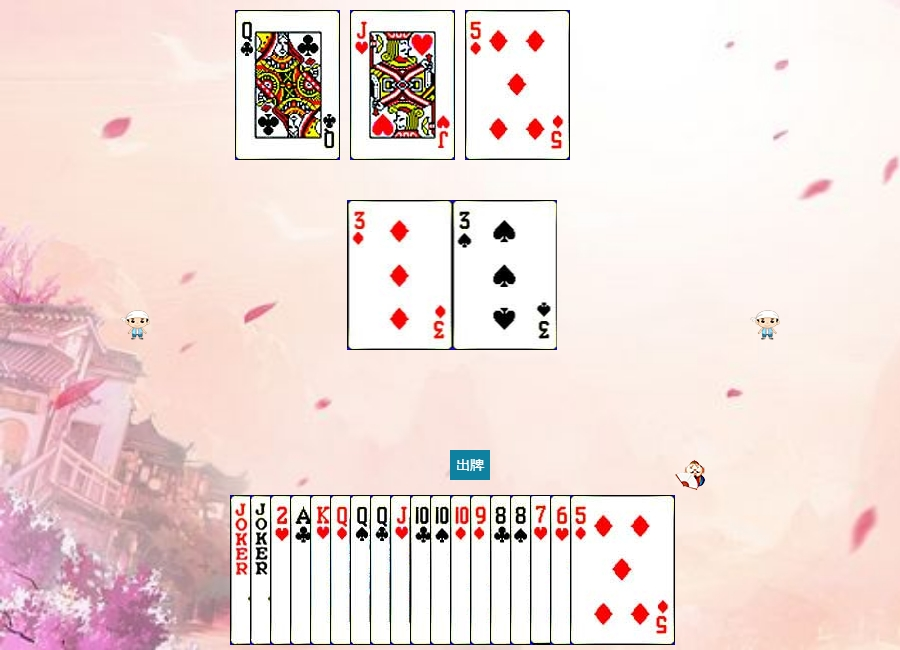10~1: (450, 495, 555, 645)
10~2: (410, 495, 515, 645)
10~4: (430, 495, 535, 645)
11~3: (350, 10, 455, 160), (390, 495, 495, 645)
12~1: (330, 495, 435, 645)
12~2: (235, 10, 340, 160), (370, 495, 475, 645)
12~4: (350, 495, 455, 645)
13~3: (310, 495, 415, 645)
14~2: (290, 495, 395, 645)
15~3: (270, 495, 375, 645)
17~3: (250, 495, 355, 645)
18~4: (230, 495, 335, 645)
3~1: (348, 200, 453, 350)
3~4: (453, 200, 558, 350)
5~1: (465, 10, 570, 160), (570, 495, 675, 645)
6~3: (550, 495, 655, 645)
7~3: (530, 495, 635, 645)
8~2: (490, 495, 595, 645)
8~4: (510, 495, 615, 645)
9~1: (470, 495, 575, 645)
